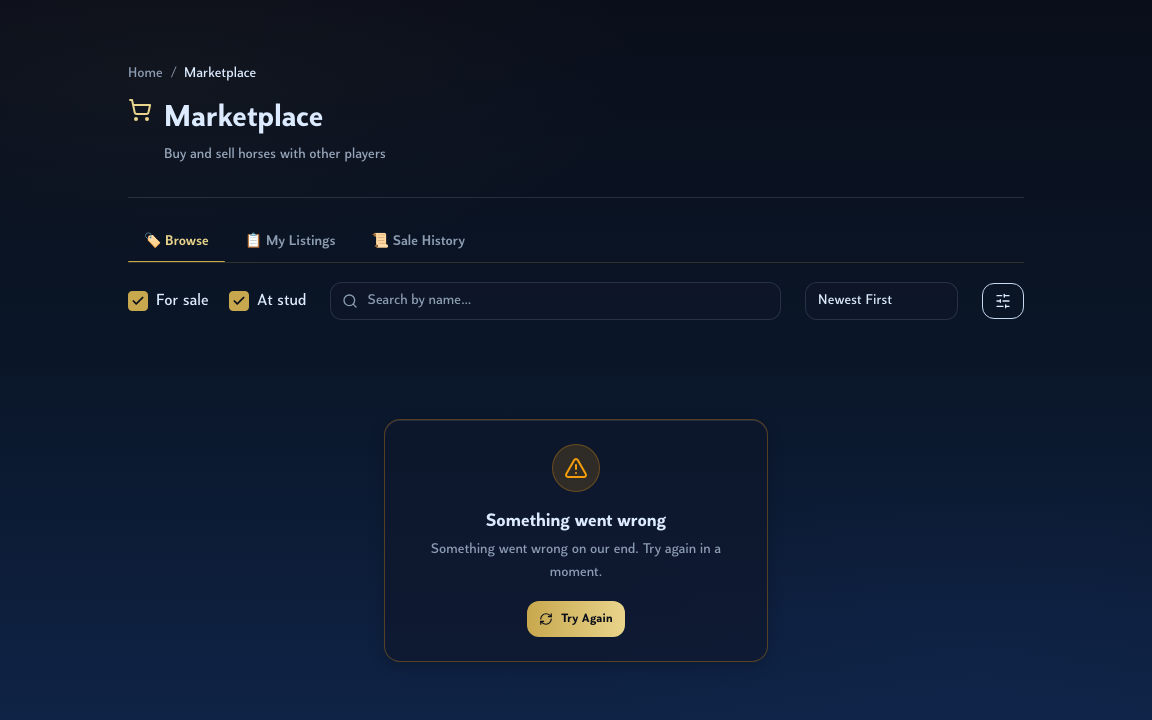
Test case: HorseMarketplacePage — Browse tab four-state (Equoria-l22ki) › retry re-fetches and renders cards (refetch is wired to the error retry)
This screenshot has width=1152, height=720.
Click the button "Try Again".
click(576, 618)  # box 527,600 -> 625,636
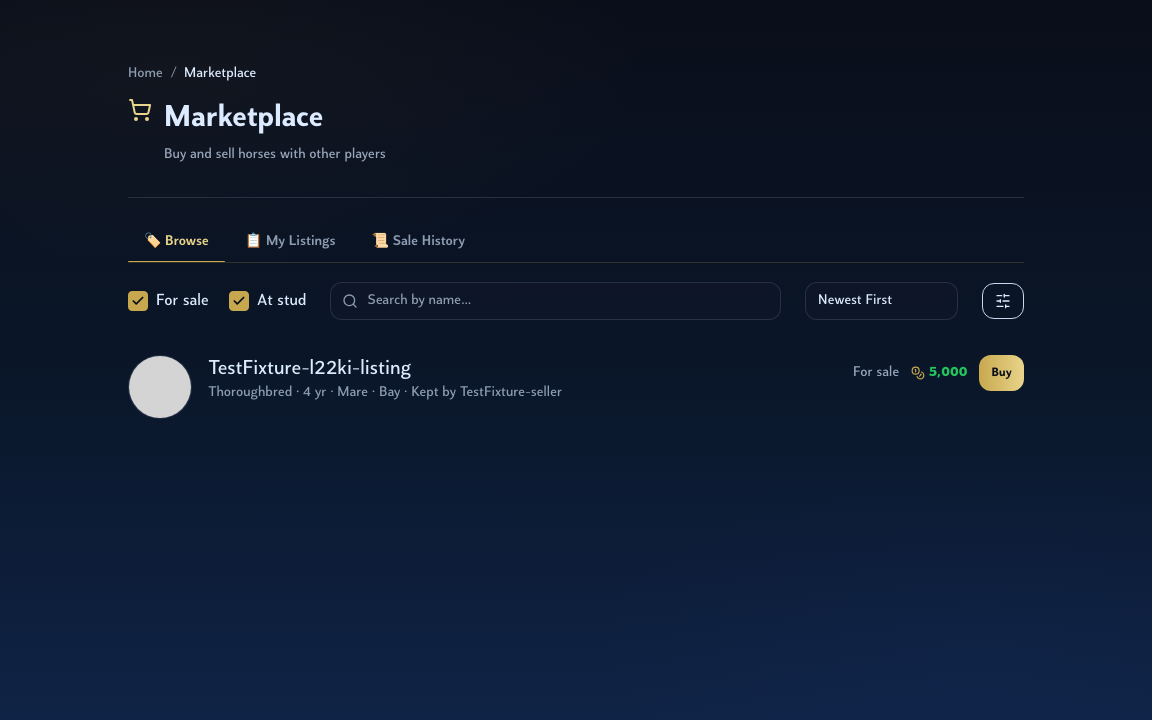
Check: the link "TestFixture-l22ki-listing" is shown, box 208,359 -> 411,379
